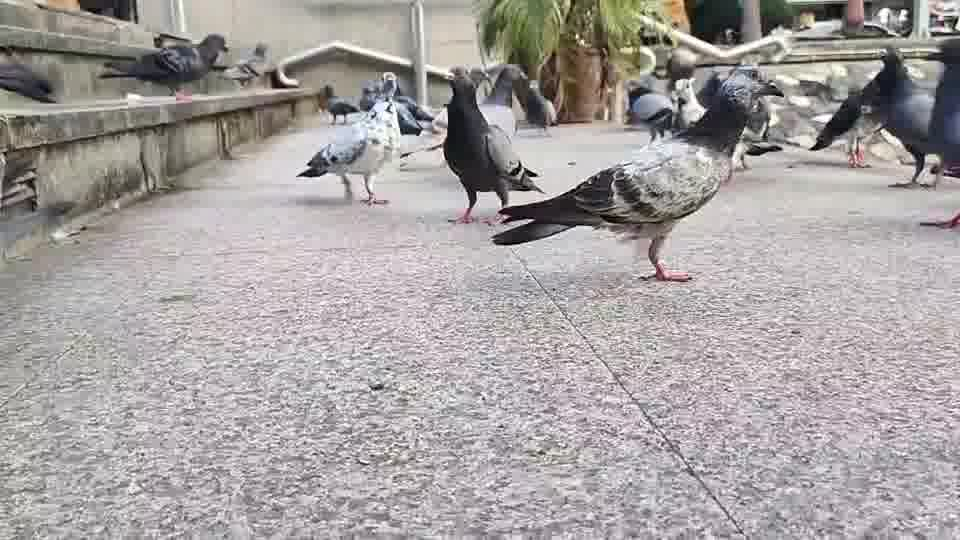Pigeon: (488, 64, 784, 282), (808, 41, 958, 190), (440, 64, 546, 225), (295, 98, 402, 207), (96, 32, 229, 97), (623, 79, 674, 149), (512, 79, 559, 137), (0, 56, 56, 103), (221, 40, 268, 88)
